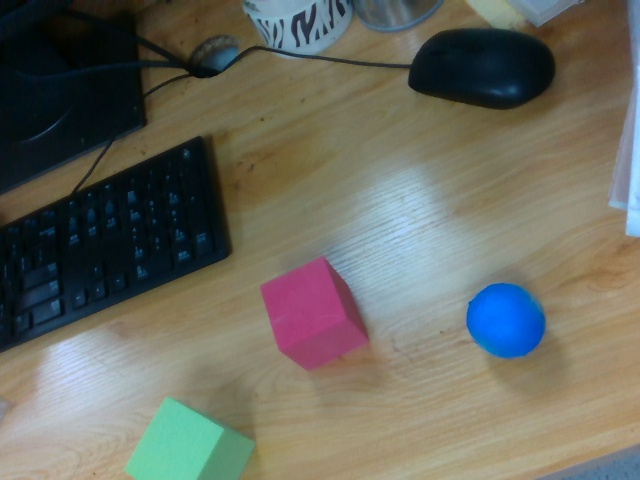blueball: (465, 283, 547, 357)
green: (123, 395, 256, 480)
red: (257, 255, 371, 370)
